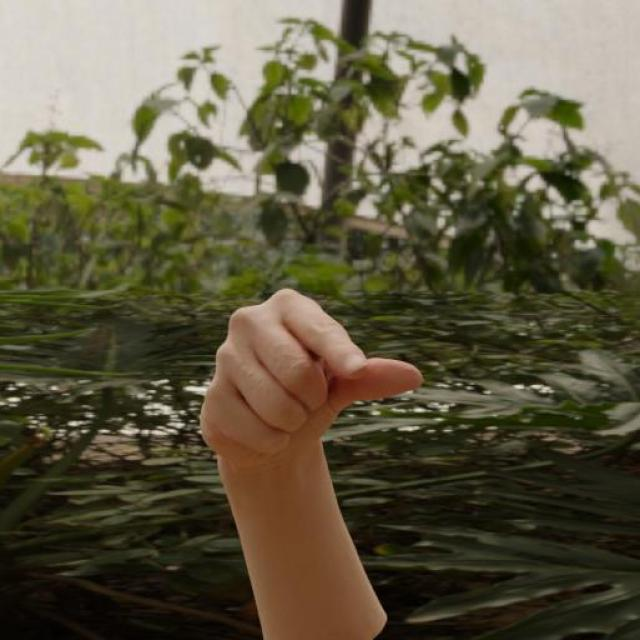G: (189, 287, 434, 465)
